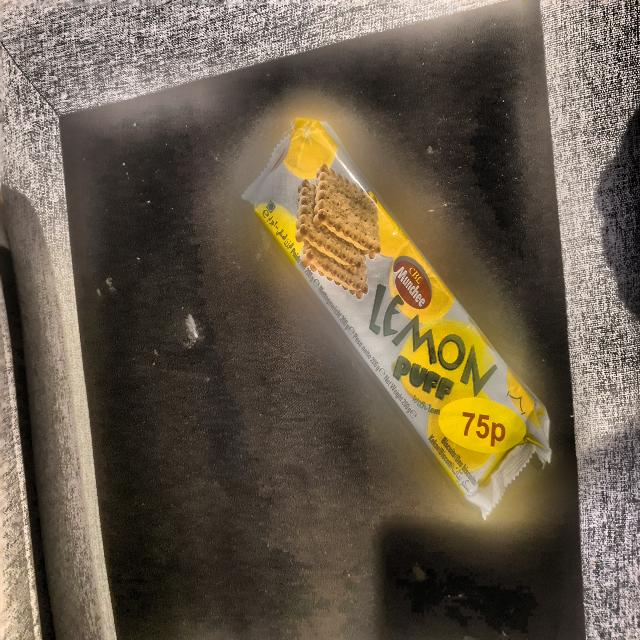lemon puff: (252, 116, 550, 510)
